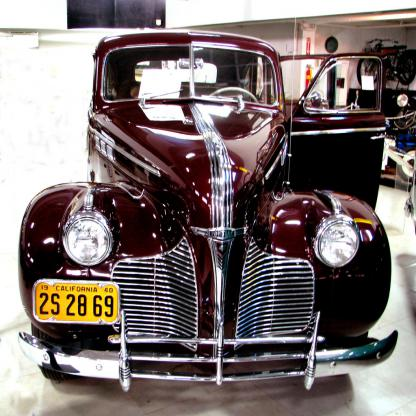Car: (8, 23, 405, 416)
